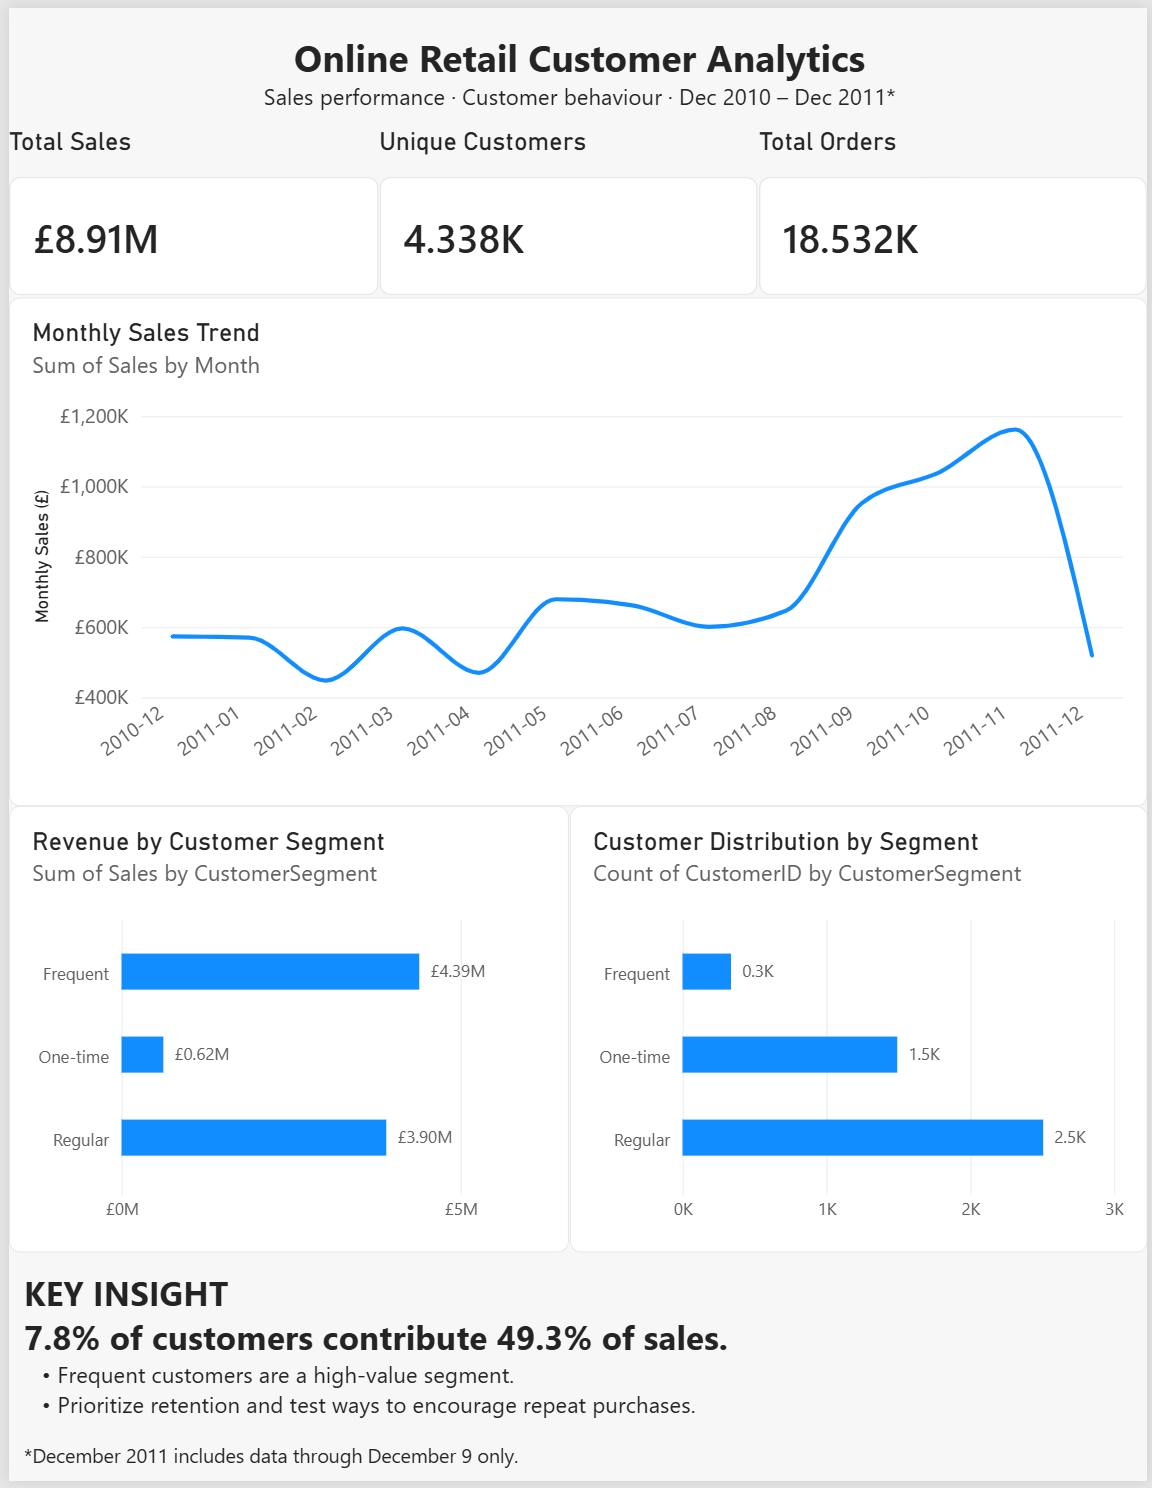

The dashboard page shown, as its layout file describes it:
{"tool":"powerbi","page":{"name":"Page 1","canvas":[816,1056],"ordinal":0},"visuals":[{"type":"lineChart","title":"Monthly Sales Trend","fields":{"Category":["Online Retail.Month"],"Y":["Sum(Online Retail.Sales)"]},"box":[0,207.1,815.7,364.8],"z":0},{"type":"cardVisual","title":"Total Sales","fields":{"Data":["Sum(Online Retail.Sales)"]},"box":[0,85.1,265.7,121.6],"z":1000},{"type":"cardVisual","title":"Unique Customers","fields":{"Data":["Count(Online Retail.CustomerID)"]},"box":[266.1,85.1,272,121.6],"z":2000},{"type":"cardVisual","title":"Total Orders","fields":{"Data":["Count(Online Retail.InvoiceNo)"]},"box":[538,85.1,278.3,121.6],"z":3000},{"type":"textbox","box":[134.5,17.4,549.3,79.2],"z":4000},{"type":"clusteredBarChart","title":"Customer Distribution by Segment","fields":{"Category":["Online Retail.CustomerSegment"],"Y":["Count(Online Retail.CustomerID)"]},"box":[401.6,571.8,414.2,319.7],"z":5000},{"type":"clusteredBarChart","title":"Revenue by Customer Segment","fields":{"Category":["Online Retail.CustomerSegment"],"Y":["Sum(Online Retail.Sales)"]},"box":[0,571.8,401.6,319.7],"z":6000},{"type":"textbox","box":[10.8,904.1,793.4,136.9],"z":6001},{"type":"textbox","box":[10.8,1028.4,358,26.1],"z":6002}]}

Visuals, with their boxes in screenshot pixels (x1, y1, x2, y2), scaled from the page's 816x1056 canvas onto the 1152x1488 screenshot:
"Monthly Sales Trend" lineChart: 0 292 1151 806
"Total Sales" cardVisual: 0 120 375 291
"Unique Customers" cardVisual: 376 120 760 291
"Total Orders" cardVisual: 760 120 1151 291
textbox: 190 25 965 136
"Customer Distribution by Segment" clusteredBarChart: 567 806 1151 1256
"Revenue by Customer Segment" clusteredBarChart: 0 806 567 1256
textbox: 15 1274 1135 1467
textbox: 15 1449 521 1486
